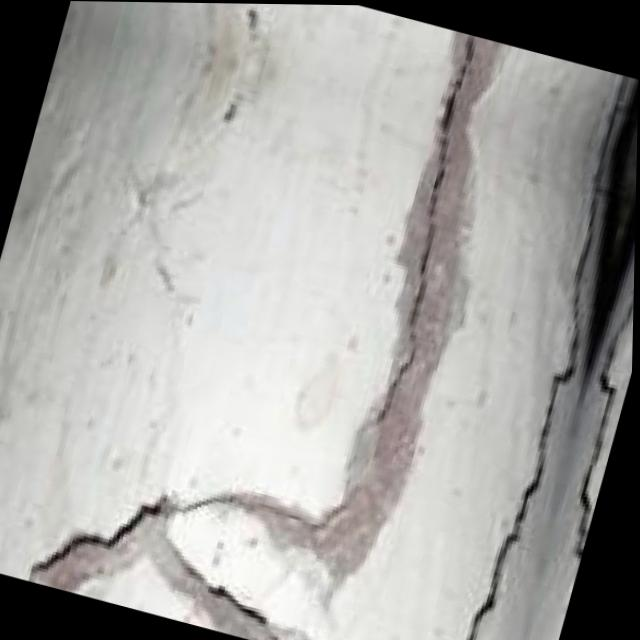Crack: (408, 58, 639, 640), (331, 22, 525, 434), (1, 458, 333, 640)
